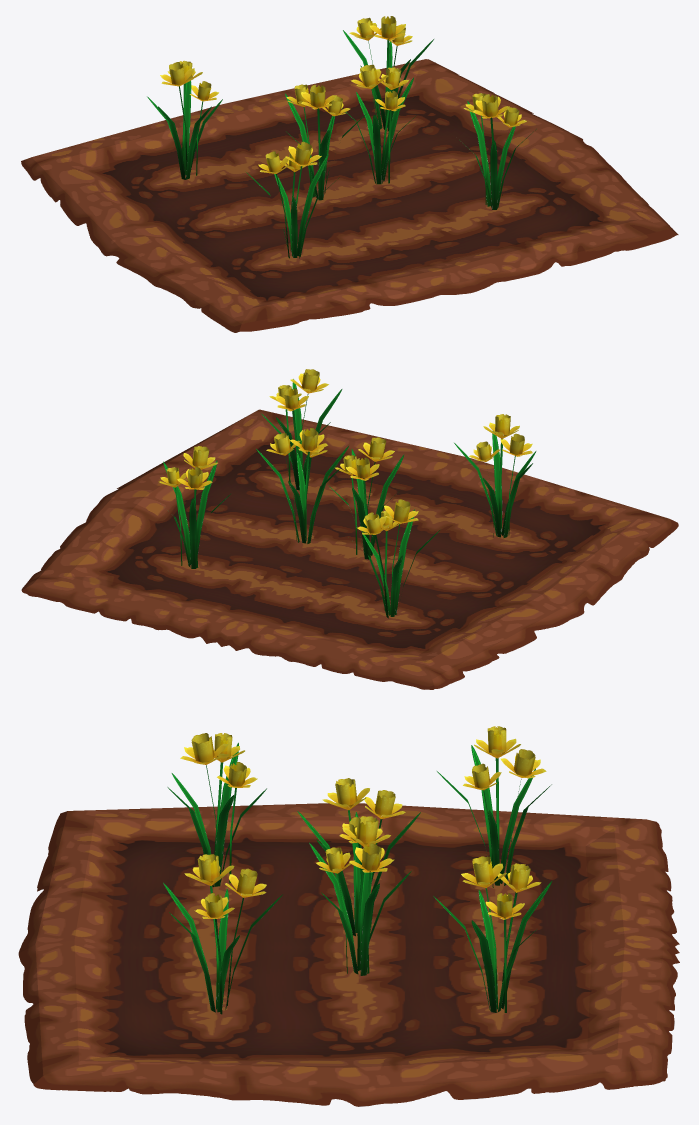
Rendered from Field_04b.FBX.
3 views of the same model, one above another, from view 1: azimuth 30°, elevation 25°; view 2: azimuth 150°, elevation 25°; view 3: azimuth 270°, elevation 25° (orthographic). The views are drawn at different scales.
Parts seen in each view (by area): view 1: Field_04b; view 2: Field_04b; view 3: Field_04b.
Boxes of the visible parts, box(x1,y1,x2,y2) form: Field_04b: box(21, 16, 678, 332); Field_04b: box(21, 369, 678, 689); Field_04b: box(18, 726, 679, 1106).
Bounding box in the file's own units: 2.96 × 0.7193 × 2.74.
